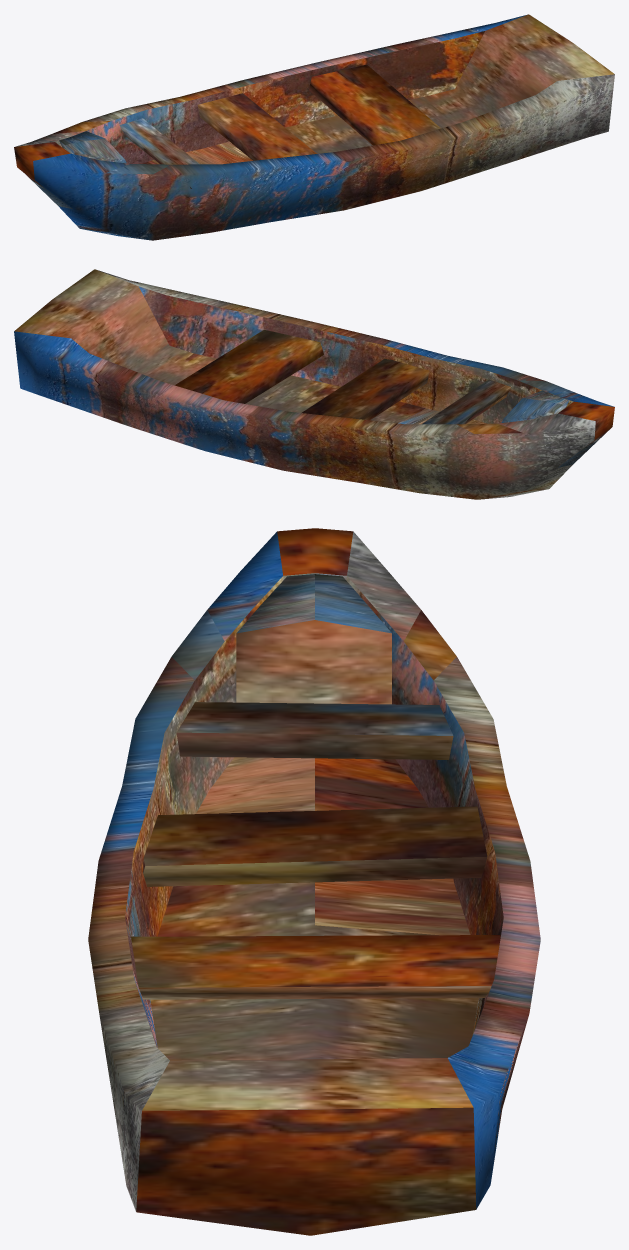
The model's file is Boat1.obj.
3 renders of one model, top to bottom at view 1: azimuth 30°, elevation 25°; view 2: azimuth 150°, elevation 25°; view 3: azimuth 270°, elevation 25°, orthographic. The views are drawn at different scales.
Visible parts, largest first — view 1: Cube; view 2: Cube; view 3: Cube.
Boxes of the visible parts, left/top/right/bottom form: Cube: left=14, top=14, right=614, bottom=240; Cube: left=14, top=269, right=614, bottom=499; Cube: left=88, top=528, right=540, bottom=1235.
Bounding box in the file's own units: 3.56 × 0.6767 × 1.27.
Materials: 1 (1 with a texture image).
